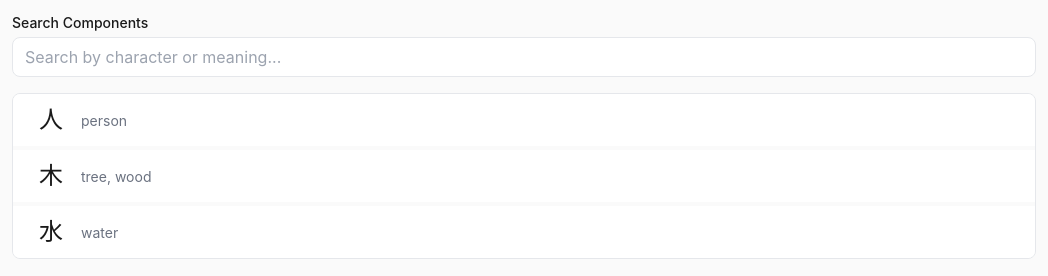
Test: KanjiDetailComponentSearch › search filtering › shows results matching character
Type "人" into the field at (524, 57), box [12,37,1036,77]
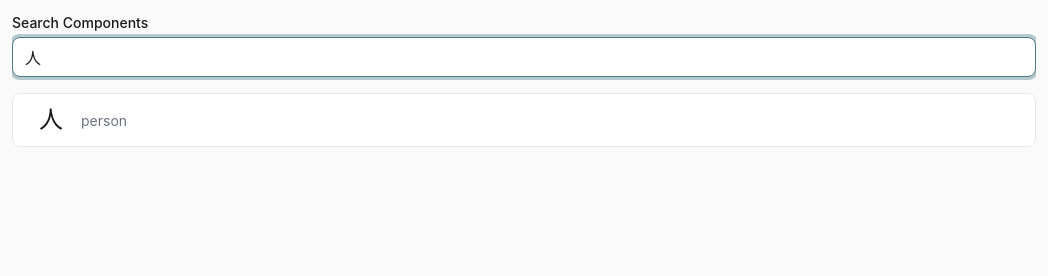
Check: the text "人" is shown, box [39,106,63,133]
Check: the button "木" is gone
